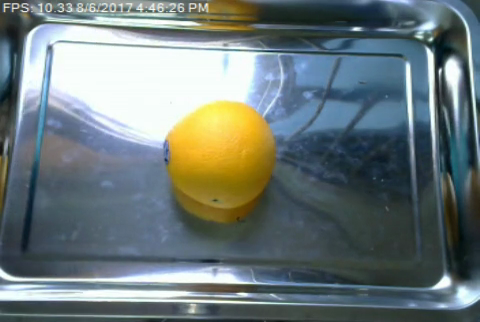Orange: (163, 102, 274, 207)
